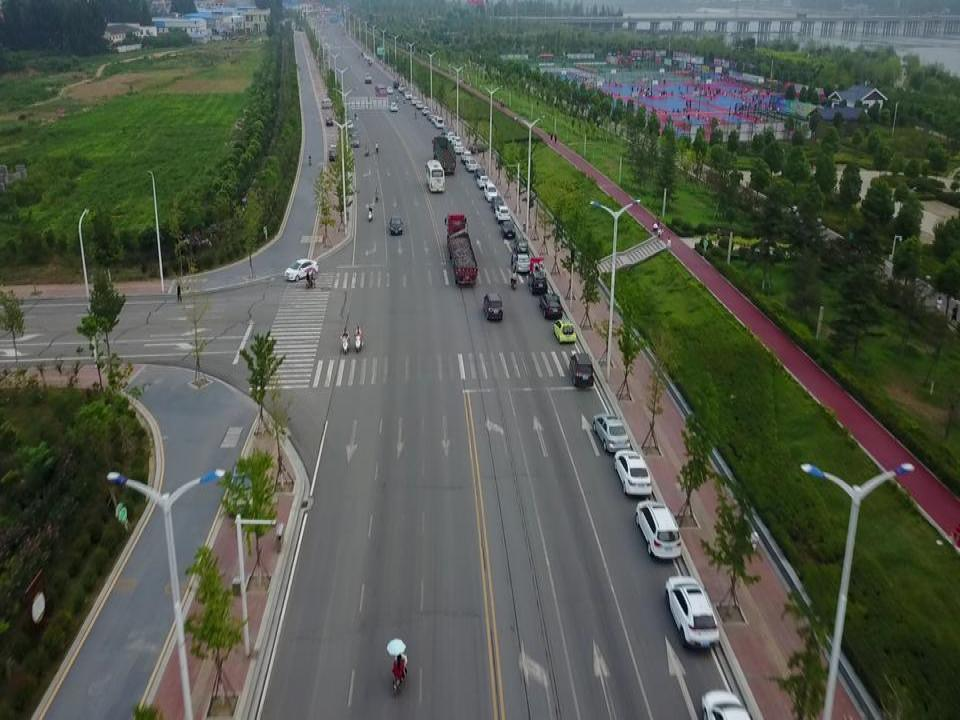bus: (424, 160, 444, 192), (374, 84, 386, 101)
car: (664, 576, 720, 651), (635, 500, 681, 559), (613, 449, 651, 496), (592, 415, 630, 452), (568, 352, 595, 388), (284, 258, 318, 282), (539, 292, 563, 320), (481, 292, 503, 321), (552, 317, 576, 343), (527, 269, 547, 295), (510, 253, 530, 274), (499, 220, 516, 239), (467, 141, 489, 155), (513, 237, 529, 256), (388, 216, 403, 235), (495, 205, 510, 224), (484, 182, 498, 202), (490, 196, 504, 212), (476, 175, 489, 188), (464, 159, 477, 172), (473, 167, 485, 180), (459, 150, 471, 162), (348, 135, 359, 148), (329, 142, 336, 162), (451, 136, 462, 148), (443, 131, 455, 141), (453, 143, 464, 153), (434, 117, 444, 128), (440, 127, 452, 136), (329, 150, 338, 162), (348, 127, 357, 137), (387, 103, 397, 112), (421, 107, 430, 116), (426, 111, 435, 120), (430, 115, 439, 124), (324, 118, 333, 126), (411, 96, 419, 105), (415, 102, 423, 110), (392, 80, 399, 88), (398, 84, 405, 91), (386, 87, 393, 93)
truck: (444, 214, 478, 286), (431, 136, 456, 175), (363, 72, 371, 84)
van: (320, 99, 333, 109)
